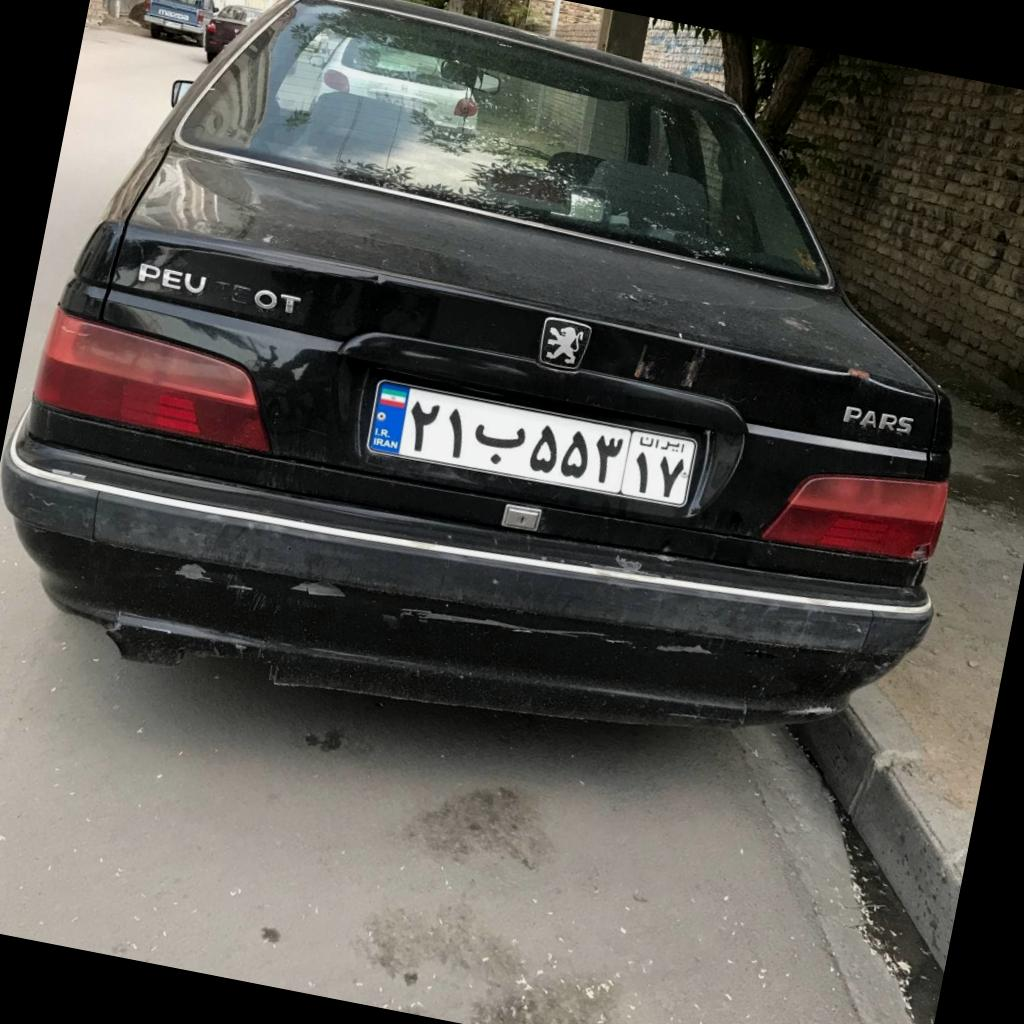Plates: (367, 379, 696, 506)
